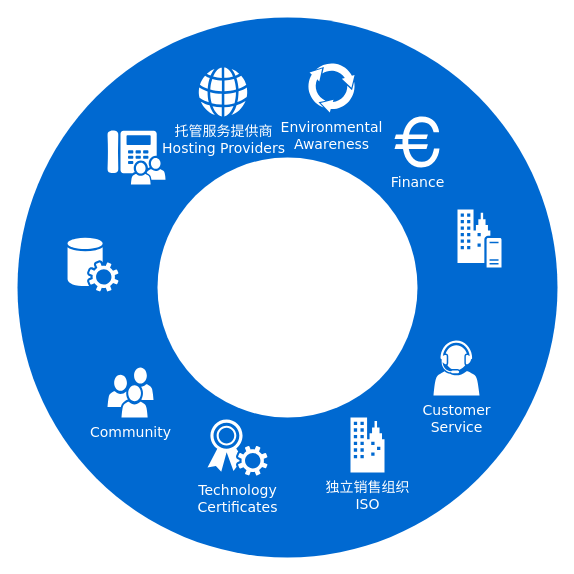
Image size: 574x574. Some labels were removed from this diagram. Each missing label, with the box of its shape:
Response Group: (107, 130, 165, 184)
支付服务提供商 PSP: (457, 209, 501, 267)
支付网关 Payment Gateway: (67, 237, 118, 291)
服务提供商（Service Provider）: (157, 157, 417, 417)
